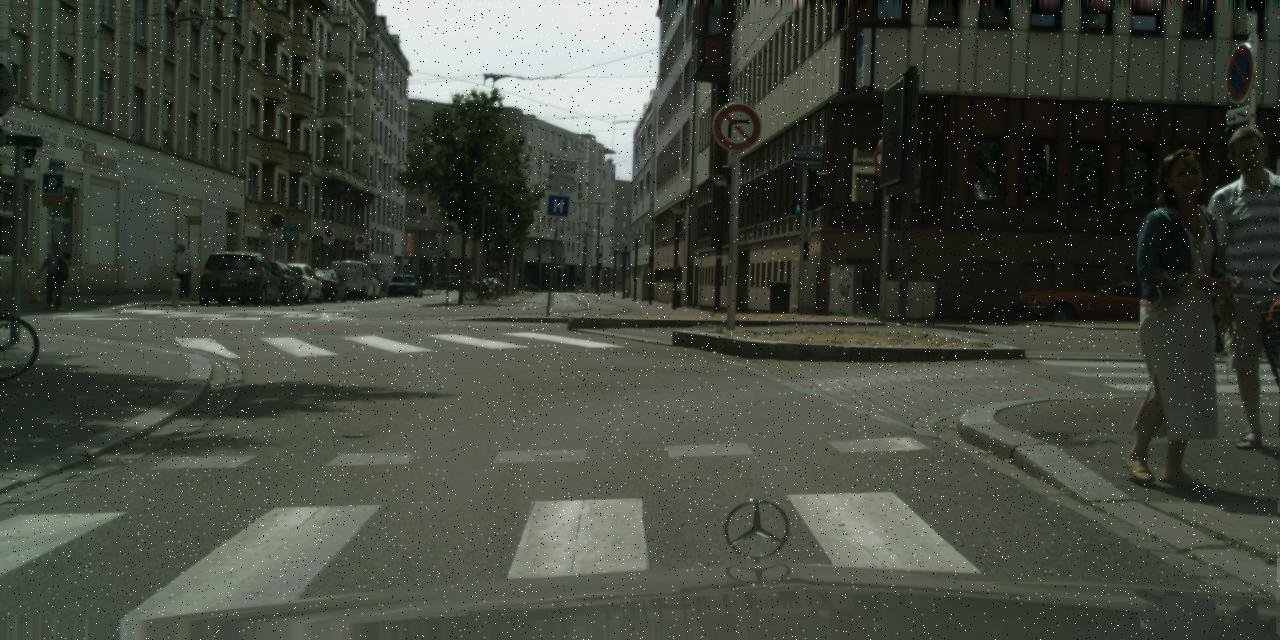ped: (1102, 148, 1239, 484), (1192, 127, 1278, 448), (40, 241, 68, 310), (172, 244, 192, 297)
